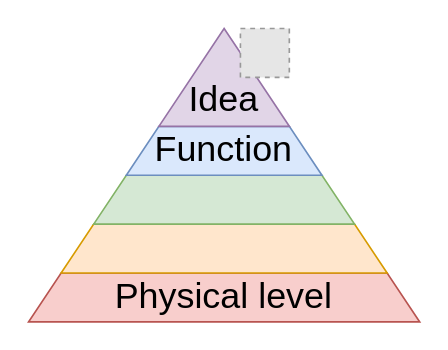
The diagram is 448 pixels wide and 350 high, and some of its shapes have lost their labels. Grey dashed boxes stand in for pictures. The centre of each missing label's shape, as x and y in pixels:
"Circuit" belongs at (x=223, y=247).
"System" belongs at (x=223, y=199).
